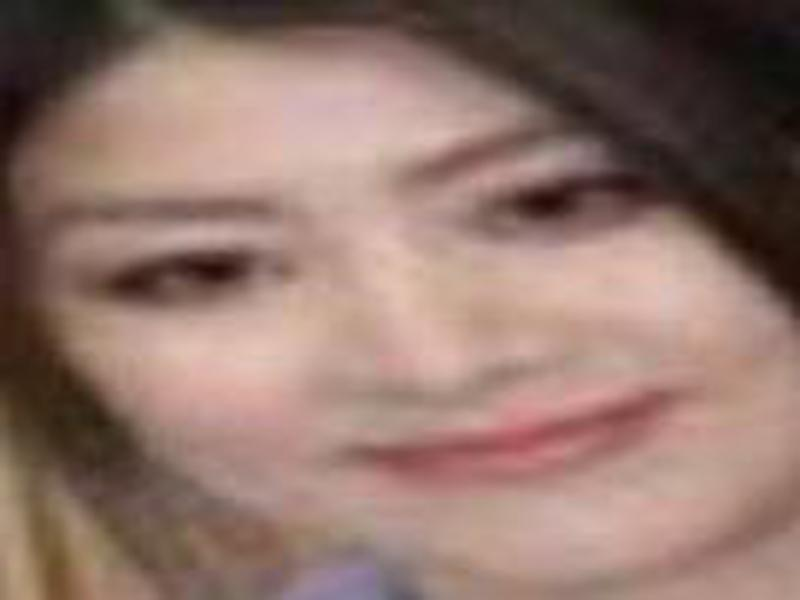without_mask: (19, 63, 795, 574)
